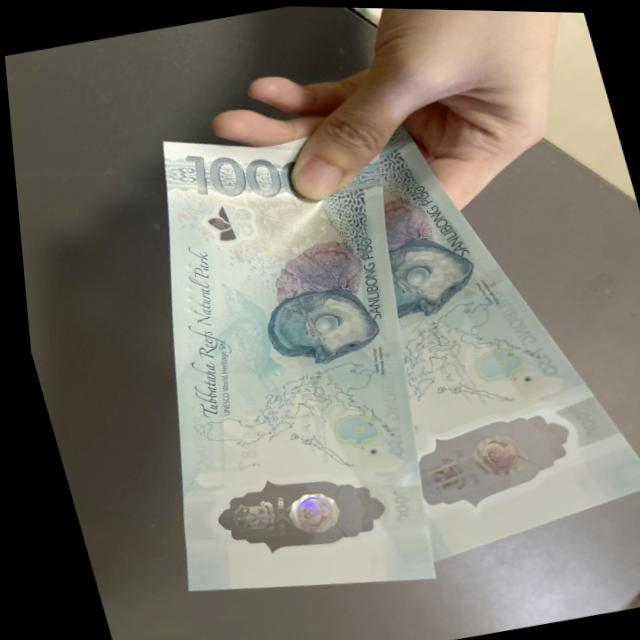clear_window: (197, 457, 392, 576), (382, 402, 590, 512)
sampaguita: (197, 199, 264, 243)
value: (175, 134, 314, 221)
